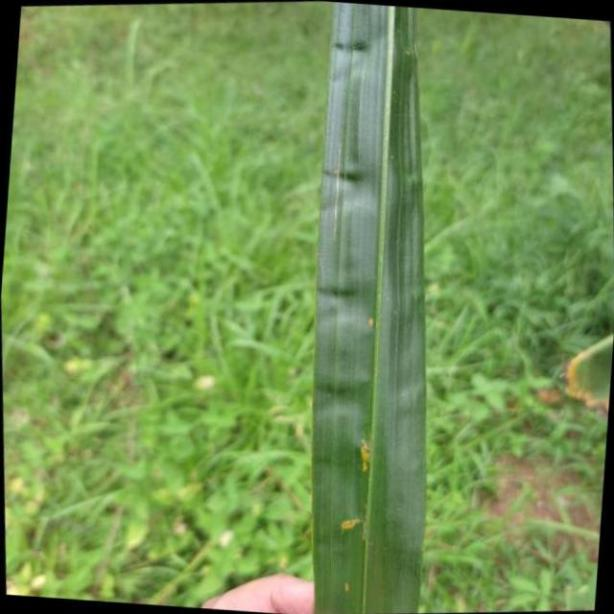Boron: (315, 0, 425, 614)
